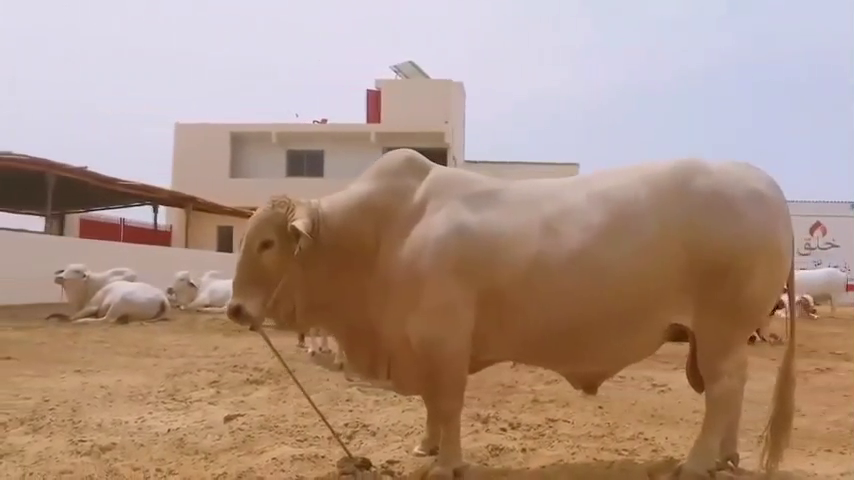bo: (218, 135, 803, 480), (78, 279, 181, 334), (50, 257, 145, 294), (775, 259, 846, 306), (768, 281, 828, 328), (172, 268, 235, 312)
